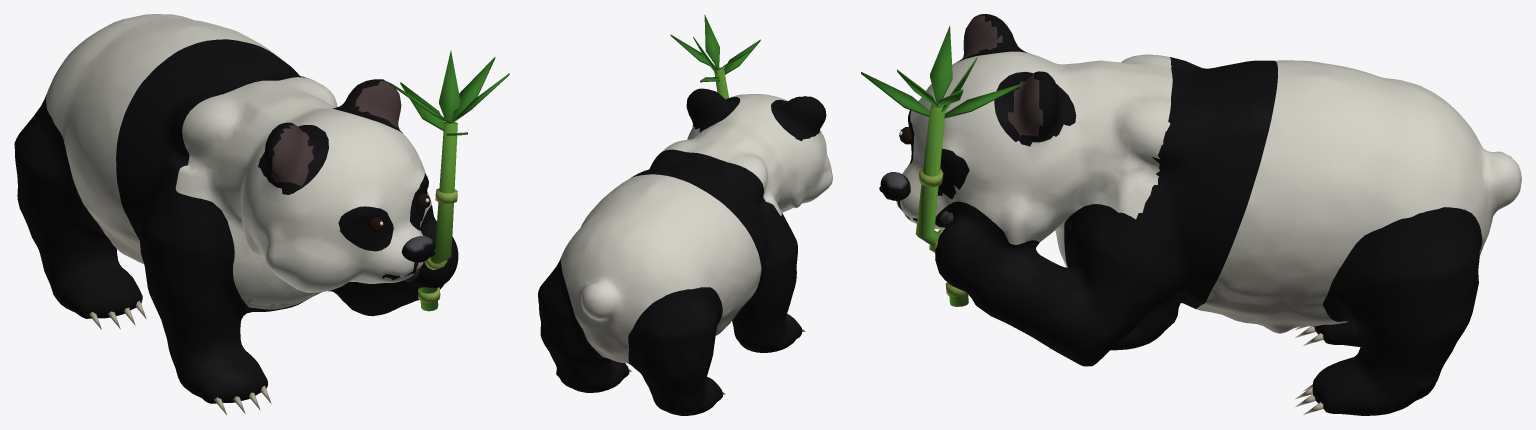
Rendered from GiantPanda.fbx.
3 renders of one model, left to right at view 1: azimuth 30°, elevation 25°; view 2: azimuth 150°, elevation 25°; view 3: azimuth 270°, elevation 25°, orthographic. The views are drawn at different scales.
Visible parts, largest first — view 1: GiantPanda; view 2: GiantPanda; view 3: GiantPanda.
Boxes of the visible parts, left/top/right/bottom form: GiantPanda: left=14, top=14, right=509, bottom=414; GiantPanda: left=538, top=14, right=832, bottom=415; GiantPanda: left=861, top=14, right=1521, bottom=415.
Size of the model in its own units: 0.7647 by 0.9564 by 1.54.
